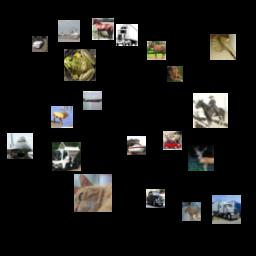airplane: (7, 133, 33, 159)
automobile: (146, 189, 165, 208), (163, 131, 182, 150), (32, 36, 48, 52)
cat: (74, 174, 112, 212), (210, 34, 236, 60)
deer: (188, 145, 214, 171), (51, 106, 73, 128), (182, 202, 201, 221)
dog: (167, 66, 183, 82)
frog: (64, 49, 96, 81)
ship: (58, 20, 80, 42), (127, 136, 146, 155), (83, 91, 102, 110)
truck: (52, 142, 81, 171), (212, 195, 241, 224), (116, 24, 138, 46)
